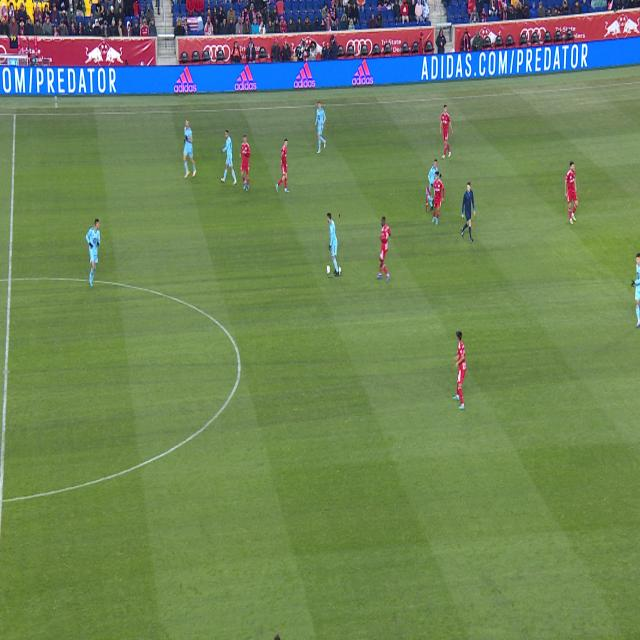football: (336, 266, 341, 276)
player: (453, 331, 466, 410), (376, 217, 391, 283), (86, 219, 100, 286), (221, 131, 237, 185), (565, 162, 578, 225), (429, 171, 444, 225), (275, 139, 290, 193), (183, 119, 196, 179), (440, 105, 453, 160), (328, 214, 339, 277), (631, 253, 640, 327), (315, 101, 326, 154), (240, 134, 250, 191), (428, 159, 438, 194), (427, 187, 434, 212), (438, 174, 441, 177)
referee: (461, 183, 475, 242)
